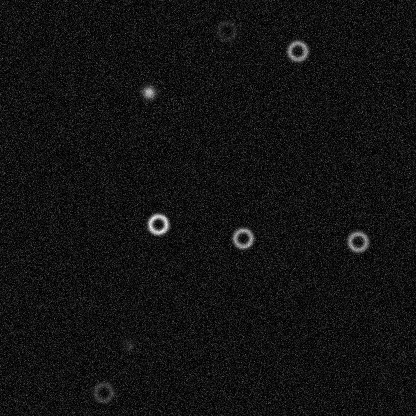Ring: (285, 38, 309, 62), (345, 229, 369, 253), (230, 226, 254, 250), (91, 380, 115, 404), (146, 212, 170, 236), (214, 18, 238, 42)
Spot: (140, 84, 156, 100), (120, 337, 136, 353)
